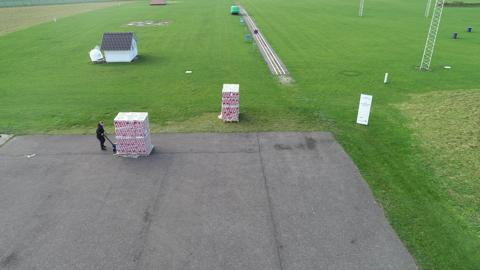RockwoolPallet: (222, 82, 241, 119)
